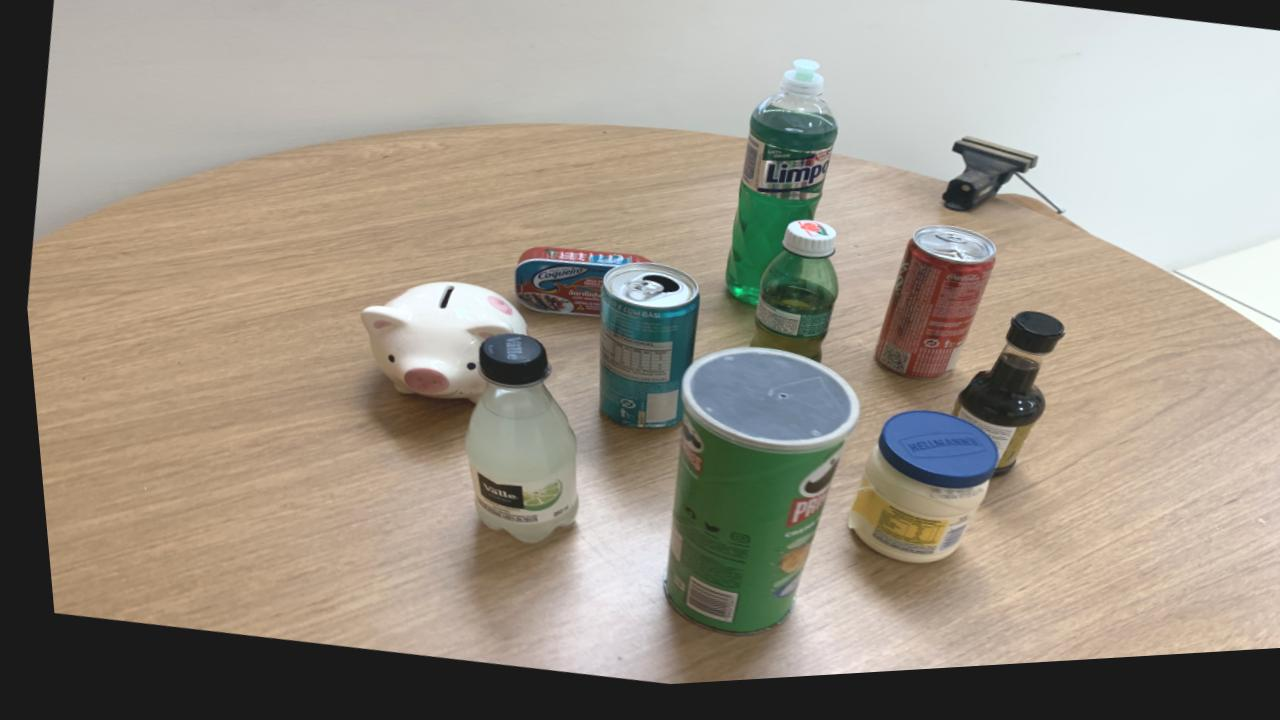Coke-Drinks: (868, 236, 991, 390)
Detergent-Cleanup_Items: (720, 69, 834, 314)
English_Sauce-Pantry_Items: (943, 323, 1058, 485)
Guarana-Drinks: (743, 229, 833, 372)
Mayonnaise-Pantry_Items: (838, 421, 989, 574)
Pig_Safe-Miscellaneous: (353, 286, 521, 407)
Pringles-Snacks: (652, 355, 850, 642)
Soda-Drinks: (455, 339, 568, 548)
Tea-Drinks: (591, 270, 693, 435)
Tuna_Can-Pantry_Items: (508, 253, 641, 324)
